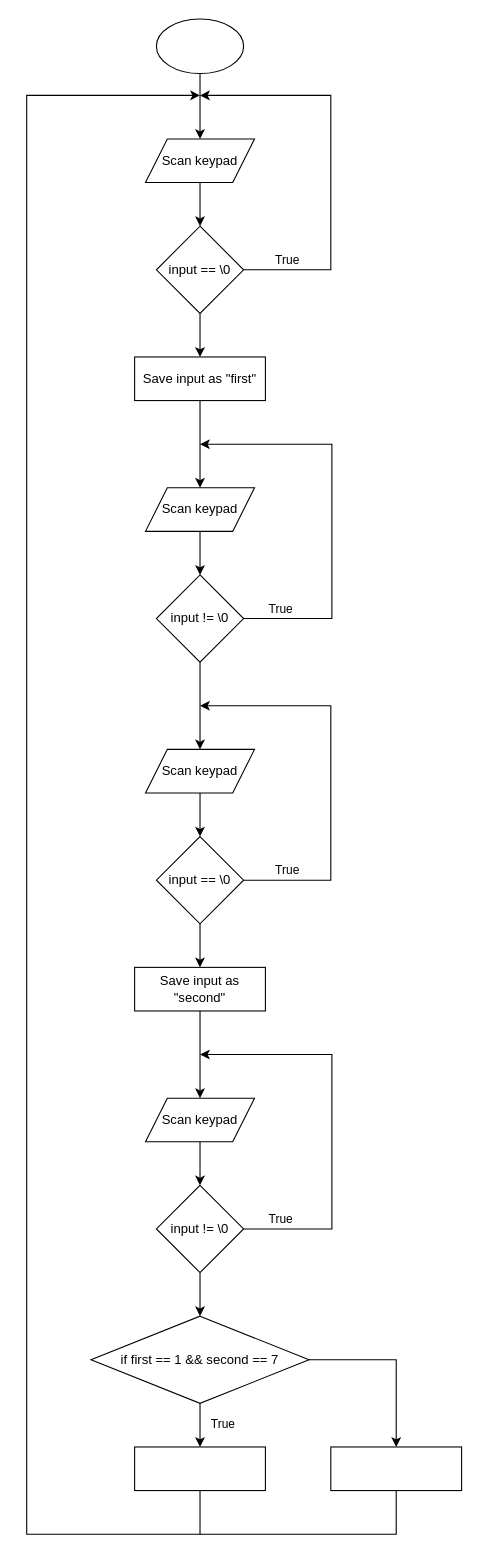
This 481x1562 diagram has some shape labels left out. The centre of each missing label's shape, as x and y in pixels:
"Correct password" goes at (199,1468).
"Incorrect password" goes at (396,1468).
"Start" goes at (199,46).
